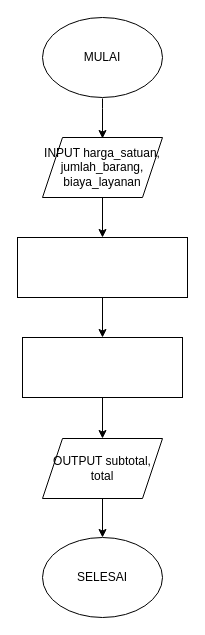
Image size: 205x635. Some labels were removed from this diagram. Each missing label, with the box of its shape:
subtotal = harga_satuan*jumlah_barang: (16, 236, 188, 298)
total = subtotal+biaya_layanan: (22, 336, 182, 398)
